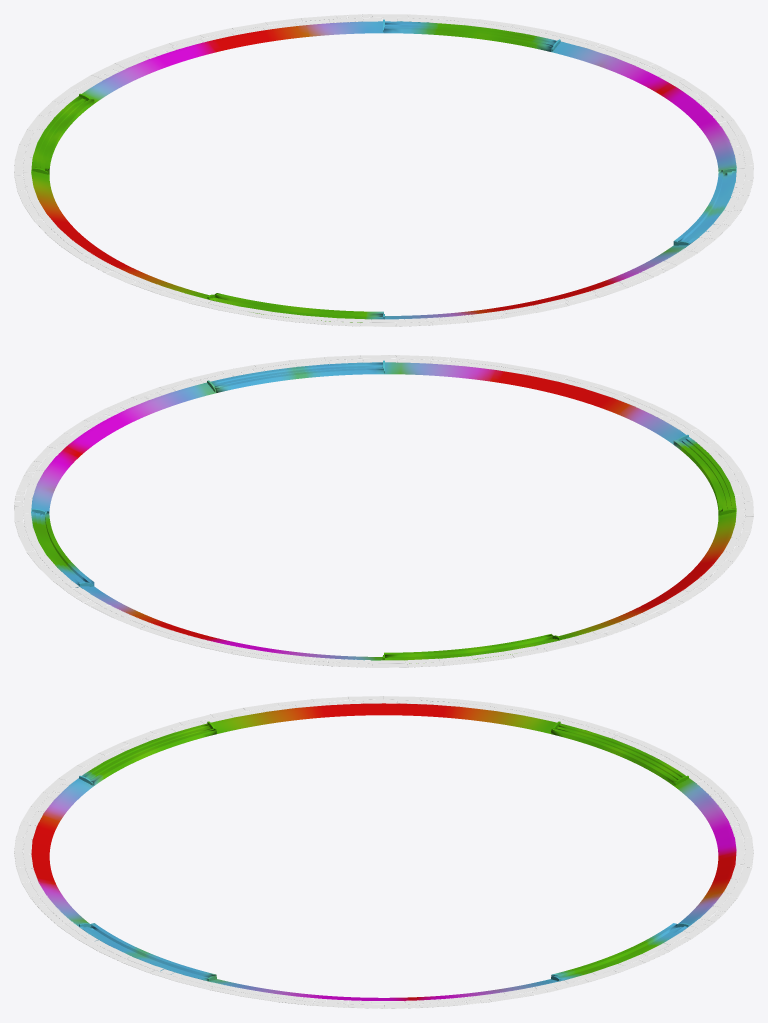
Rendered from outer-terrace.glb.
3 renders of one model, top to bottom at view 1: azimuth 30°, elevation 25°; view 2: azimuth 150°, elevation 25°; view 3: azimuth 270°, elevation 25°, orthographic.
Visible parts, largest first — view 1: outer-terrace; view 2: outer-terrace; view 3: outer-terrace.
Boxes of the visible parts, box(x1,y1,x2,y2) form: outer-terrace: box(14, 14, 753, 326); outer-terrace: box(14, 355, 753, 667); outer-terrace: box(14, 696, 753, 1008).
Bounding box in the file's own units: 66.4 × 0.6257 × 66.4.
